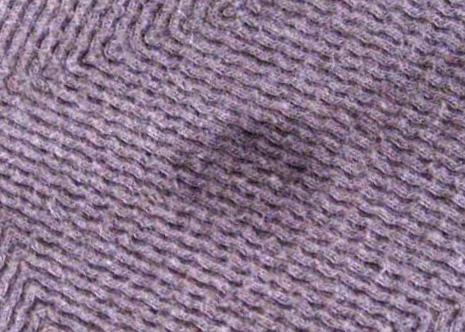stain: (154, 110, 331, 222)
